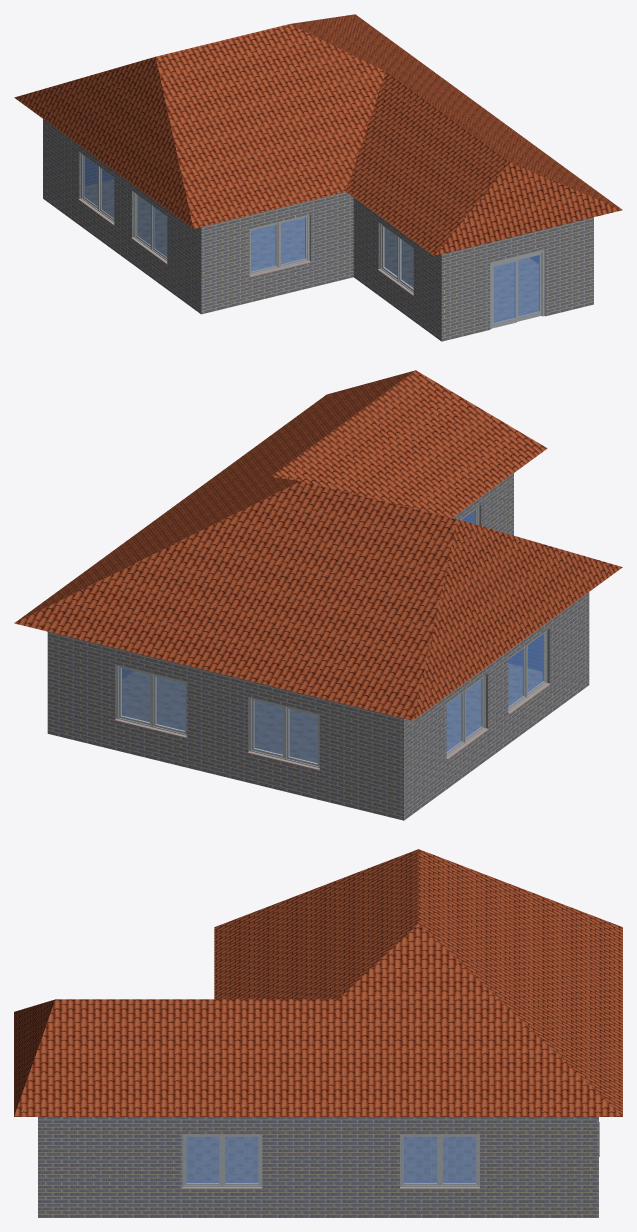
The model's file is telhado44.dae.
3 renders of one model, top to bottom at view 1: azimuth 30°, elevation 25°; view 2: azimuth 150°, elevation 25°; view 3: azimuth 270°, elevation 25°, orthographic. The views are drawn at different scales.
Parts seen in each view (by area): view 1: SketchUp (×15); view 2: SketchUp (×14); view 3: SketchUp (×10).
Part boxes in pixels (<box>): SketchUp (×15): <box>14,14,622,341</box>; SketchUp (×14): <box>14,370,622,820</box>; SketchUp (×10): <box>14,849,622,1217</box>.
Bounding box in the file's own units: 441 × 598 × 236.
Materials: 12 (5 with a texture image).
